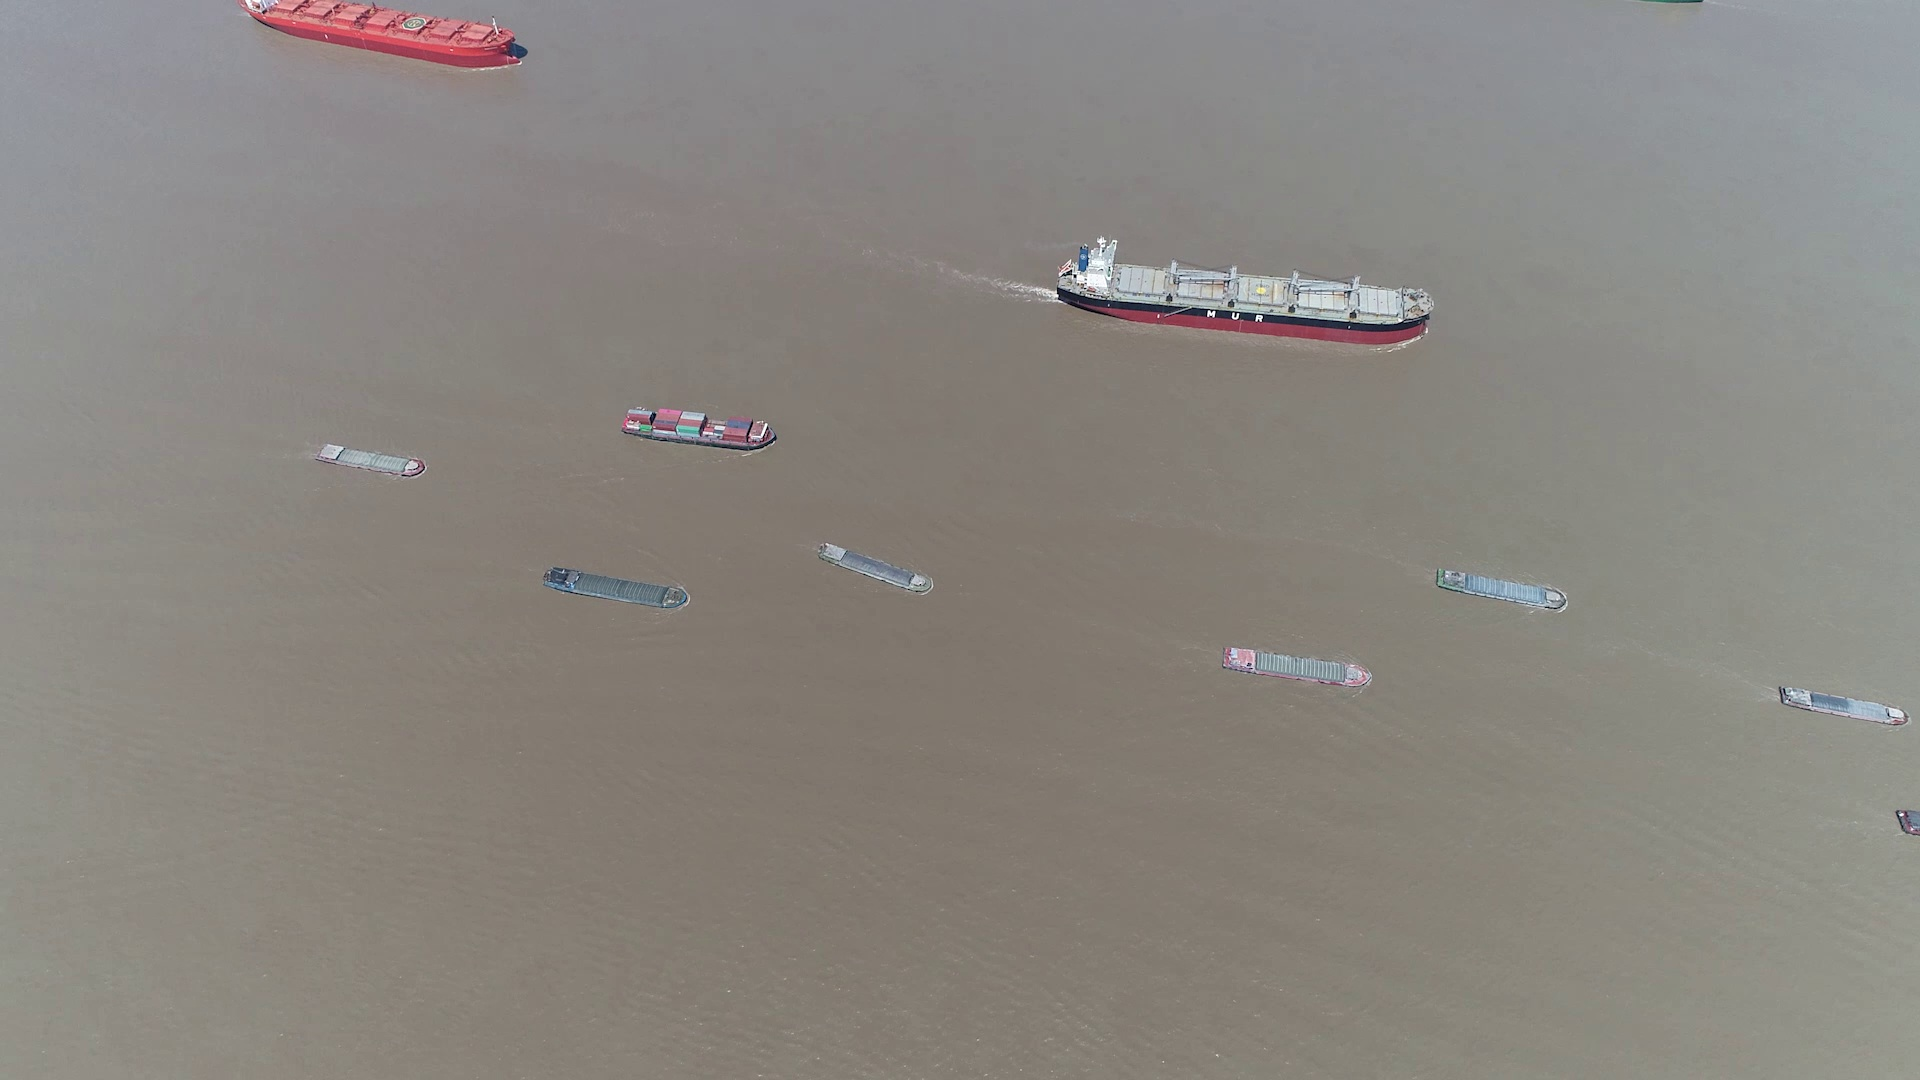ship: (1058, 239, 1437, 343), (243, 0, 524, 69), (622, 406, 781, 450), (543, 564, 690, 611), (1221, 647, 1371, 688), (818, 545, 931, 595), (1433, 567, 1567, 609), (1776, 684, 1909, 727), (314, 443, 427, 477), (1896, 808, 1920, 841), (1651, 0, 1704, 7)
